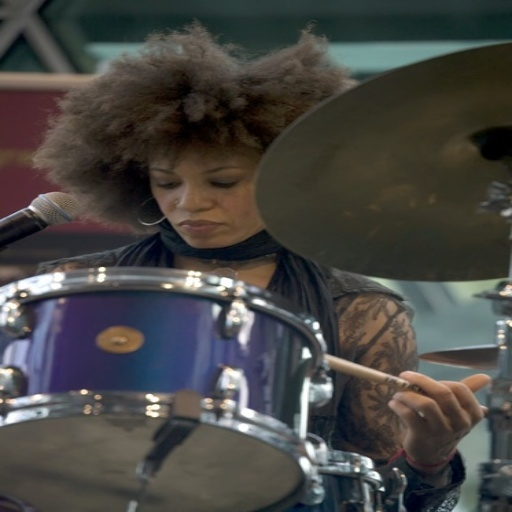hand: (374, 364, 490, 484)
